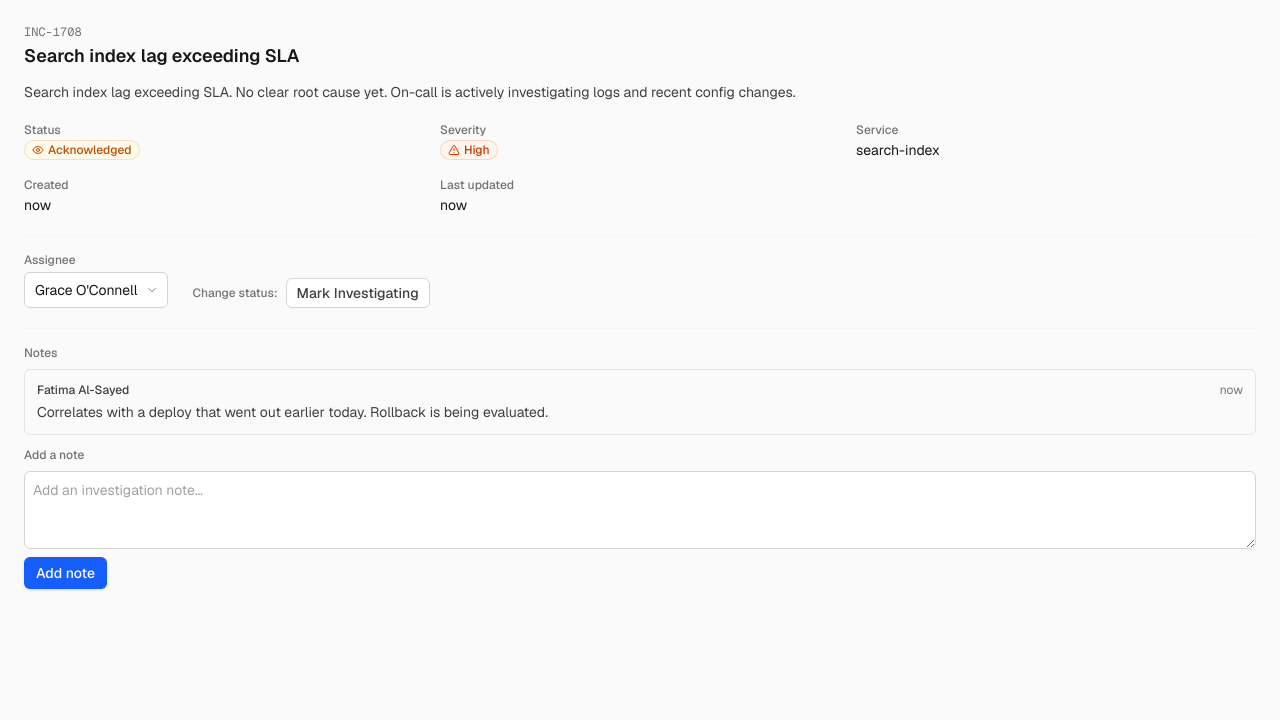
Test: IncidentDetailContent › applies a status transition and reflects the new status
Expected: the heading "Search index lag exceeding SLA" is shown, [24,44,300,67]
Click the button "Mark Investigating" at {"x": 358, "y": 293}, box [286,278,430,308]
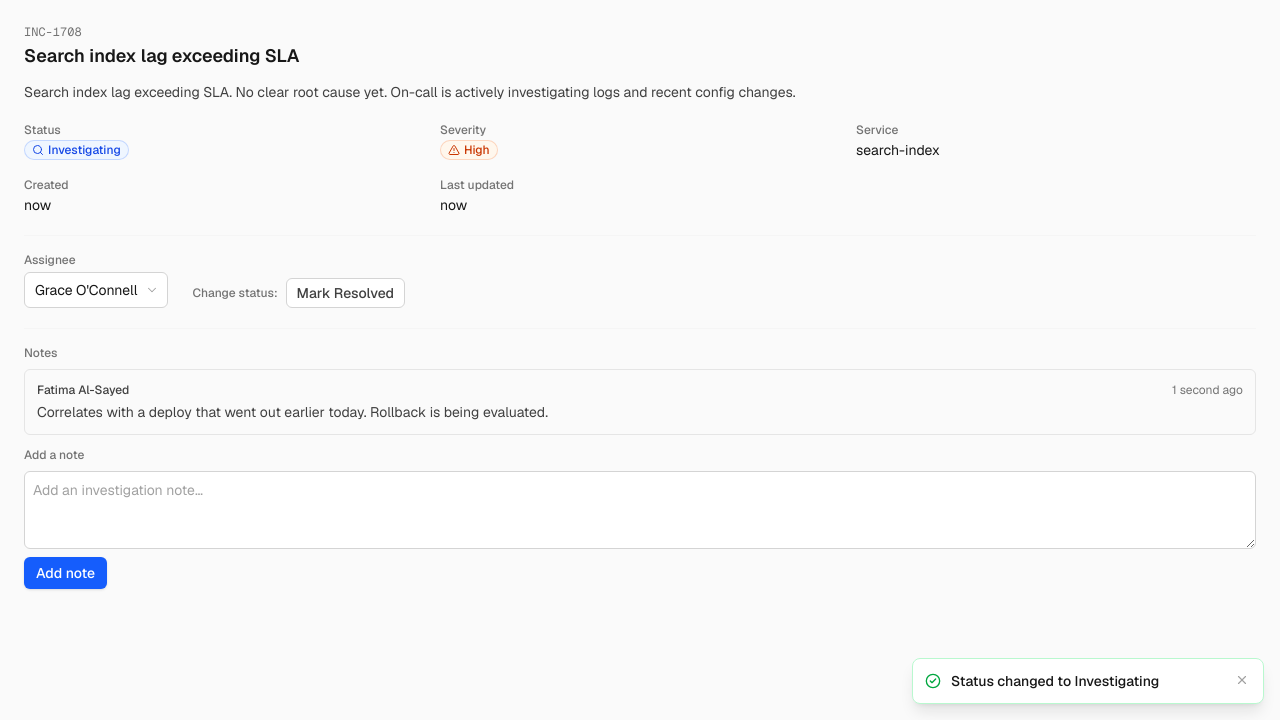
Now the text "Investigating" is shown, box [24,140,129,160]
Now the text "Acknowledged" is gone
